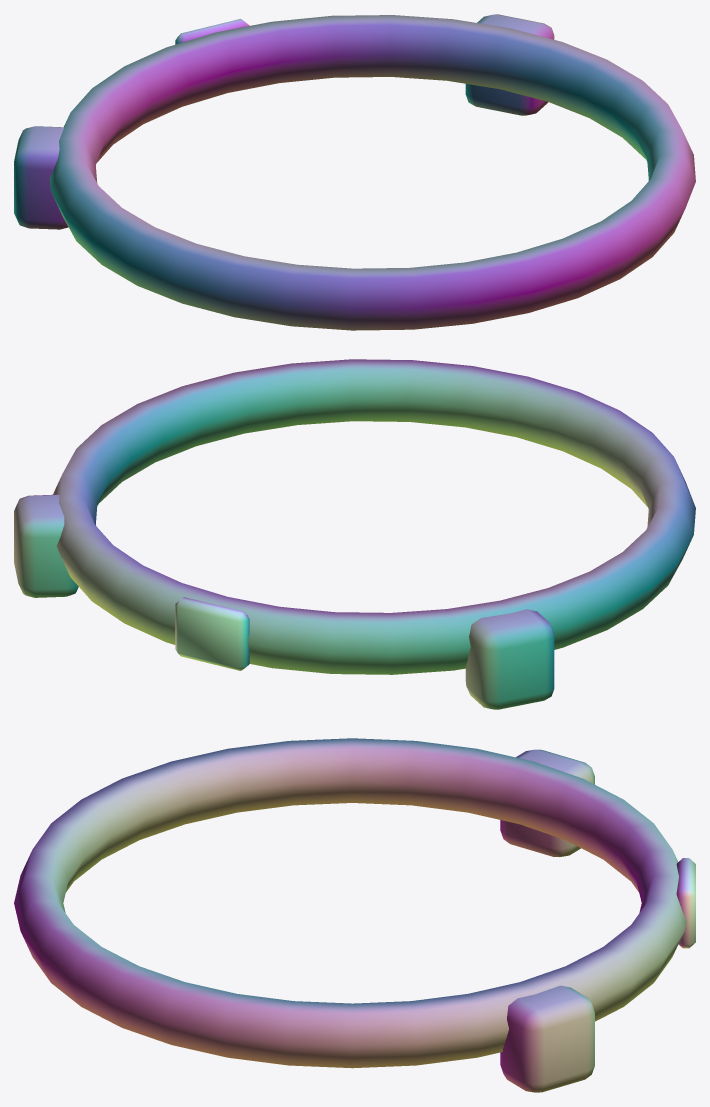
Rendered from acc_belt.glb.
3 renders of one model, top to bottom at view 1: azimuth 30°, elevation 25°; view 2: azimuth 150°, elevation 25°; view 3: azimuth 270°, elevation 25°, orthographic. The views are drawn at different scales.
Parts seen in each view (by area): view 1: belt; view 2: belt; view 3: belt.
Boxes of the visible parts, <box> form: belt: <box>14,14,695,330</box>; belt: <box>14,359,695,709</box>; belt: <box>14,738,695,1092</box>.
Bounding box in the file's own units: 0.2058 × 0.03 × 0.2073.
